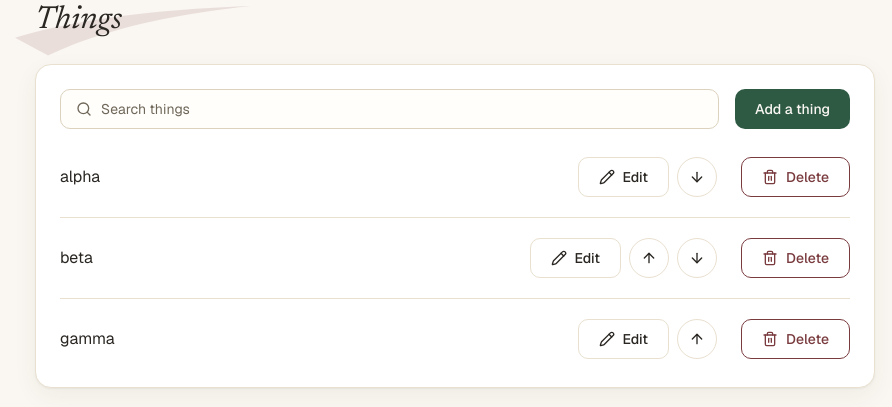
it: ItemList › search › ignores surrounding whitespace in the query
Type "  beta  " into the search field labelled "Search things" at (390, 109), box [60,89,719,129]
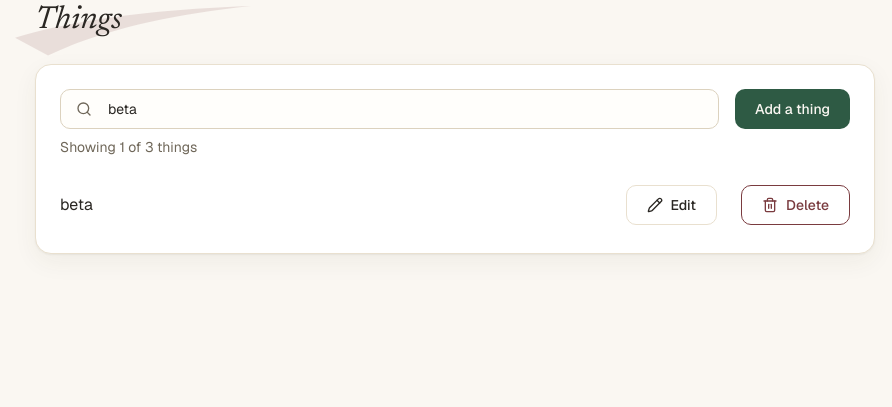
expect the text "beta" is shown: met, box [60,194,93,215]
expect the text "alpha" is gone: met
